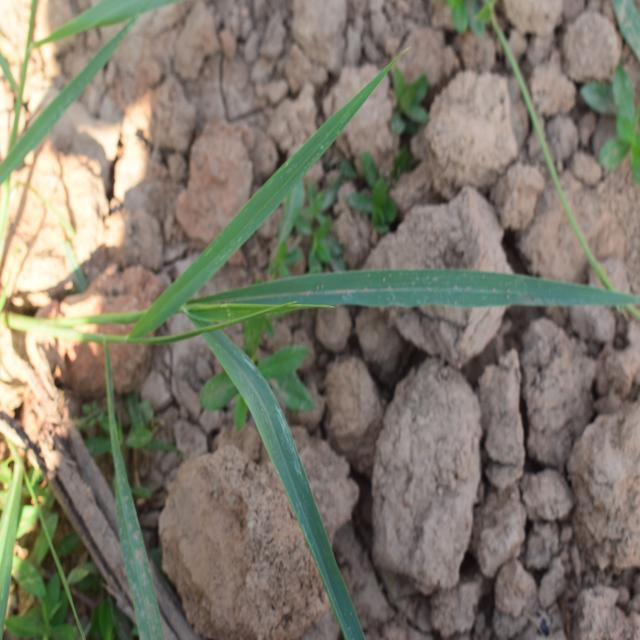green_foxtail: (141, 63, 510, 555)
